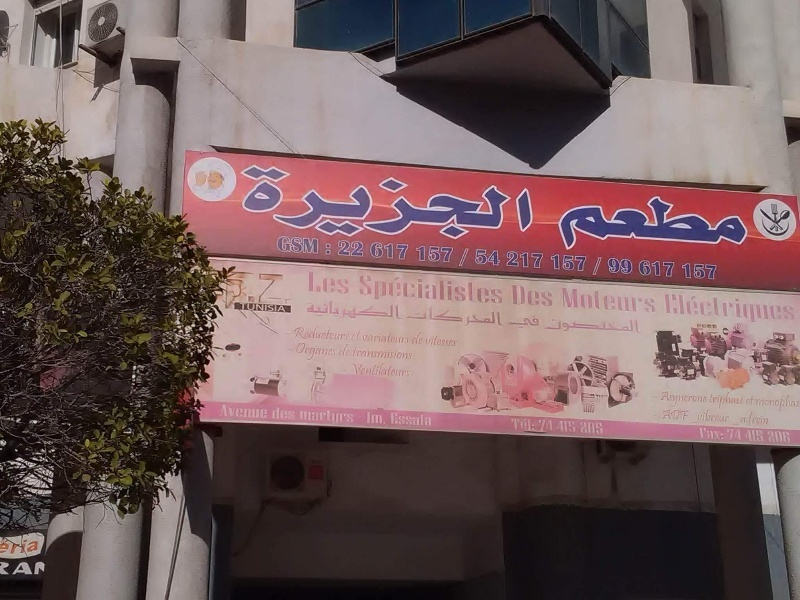text: (241, 163, 256, 242), (257, 163, 272, 242), (273, 163, 288, 242), (289, 163, 304, 242), (305, 163, 320, 242), (321, 163, 336, 242), (337, 163, 352, 242), (353, 163, 368, 242), (369, 163, 384, 242), (385, 163, 400, 242), (401, 163, 416, 242), (417, 163, 432, 242), (433, 163, 448, 242), (449, 163, 464, 242), (465, 163, 480, 242), (481, 163, 496, 242), (497, 163, 512, 242), (513, 163, 528, 242), (577, 193, 592, 268), (593, 193, 608, 268), (609, 193, 624, 268), (625, 193, 640, 268), (641, 193, 656, 268), (657, 193, 672, 268), (673, 193, 688, 268), (689, 193, 704, 268), (705, 193, 720, 268), (721, 193, 736, 268), (737, 193, 752, 268), (563, 193, 576, 268), (369, 272, 384, 308), (385, 272, 400, 308), (401, 272, 416, 308), (417, 272, 432, 308), (433, 272, 448, 308), (449, 272, 464, 308), (465, 272, 480, 308), (481, 272, 496, 308), (1, 530, 16, 563), (17, 530, 32, 563), (673, 293, 688, 325), (689, 293, 704, 325), (705, 293, 720, 325), (721, 293, 736, 325), (737, 293, 752, 325), (753, 293, 768, 325), (769, 293, 784, 325), (529, 163, 535, 242), (226, 279, 240, 311), (561, 286, 576, 314), (577, 286, 592, 314), (593, 286, 608, 314), (609, 286, 624, 314), (625, 286, 640, 314), (641, 286, 656, 314), (259, 273, 272, 305), (33, 530, 45, 563), (321, 270, 336, 296), (785, 293, 797, 325), (306, 270, 320, 296), (337, 270, 351, 296), (358, 272, 368, 308), (513, 284, 528, 308), (529, 284, 544, 308), (273, 273, 284, 305), (417, 304, 432, 327), (433, 304, 448, 327), (449, 304, 464, 327), (465, 304, 480, 327), (481, 304, 496, 327), (321, 341, 337, 362), (305, 298, 320, 320), (321, 298, 336, 320), (337, 298, 352, 320), (353, 298, 368, 320), (369, 298, 384, 320), (385, 298, 400, 320), (662, 293, 672, 325), (305, 341, 320, 362), (337, 239, 352, 259), (1, 558, 16, 578), (17, 558, 32, 578), (289, 236, 304, 255), (305, 236, 320, 255), (385, 242, 400, 261), (513, 250, 528, 269), (529, 250, 544, 269), (561, 254, 576, 273), (609, 257, 624, 276), (641, 259, 656, 278), (657, 259, 672, 278), (689, 262, 704, 281), (33, 558, 47, 578), (417, 411, 433, 428), (417, 245, 432, 263), (433, 245, 448, 263), (481, 249, 496, 267), (721, 391, 736, 409), (769, 395, 784, 413), (785, 395, 800, 413), (305, 409, 320, 427), (321, 409, 336, 427), (337, 409, 352, 427), (370, 242, 384, 261), (753, 411, 769, 427), (305, 325, 320, 342), (321, 325, 336, 342), (673, 390, 688, 407), (689, 390, 704, 407), (401, 411, 416, 428), (353, 362, 368, 379), (369, 362, 384, 379), (385, 362, 400, 379), (497, 272, 504, 308), (705, 262, 718, 281), (513, 313, 528, 329), (353, 239, 365, 259), (673, 406, 688, 422), (705, 409, 720, 425), (338, 342, 352, 359), (755, 395, 768, 413), (406, 304, 416, 327), (433, 334, 448, 349), (545, 319, 560, 334), (561, 319, 576, 334), (577, 319, 592, 334), (593, 319, 608, 334), (609, 319, 624, 334), (625, 319, 640, 334), (513, 417, 528, 432), (561, 419, 576, 434), (705, 427, 720, 442), (273, 406, 288, 421), (369, 411, 384, 426), (273, 301, 289, 315), (337, 325, 350, 342), (593, 256, 604, 276), (324, 241, 336, 259), (545, 284, 554, 308), (241, 301, 256, 315), (257, 301, 272, 315), (369, 331, 384, 345), (385, 331, 400, 345), (369, 347, 384, 361), (385, 347, 400, 361), (769, 430, 784, 444), (225, 405, 240, 419), (241, 405, 256, 419), (277, 236, 288, 255), (691, 409, 704, 425), (354, 347, 368, 361), (529, 313, 541, 329), (241, 279, 247, 311), (550, 254, 560, 273), (577, 254, 587, 273), (661, 390, 672, 407), (389, 411, 400, 428), (401, 347, 414, 361), (580, 421, 592, 436), (710, 391, 720, 409), (625, 257, 634, 276), (294, 325, 304, 342), (401, 362, 411, 379), (753, 429, 765, 443), (593, 421, 604, 436), (497, 304, 504, 327), (238, 163, 240, 242), (257, 405, 268, 419), (401, 242, 409, 261), (297, 341, 304, 362), (663, 406, 672, 422), (721, 409, 730, 425), (737, 412, 746, 428), (737, 391, 745, 409), (401, 331, 411, 345), (449, 334, 458, 349), (681, 262, 688, 281), (726, 429, 736, 442), (545, 419, 553, 433), (744, 429, 752, 443), (353, 331, 363, 342), (425, 334, 432, 349), (529, 417, 536, 432), (459, 248, 464, 268), (465, 248, 470, 268), (537, 419, 544, 433), (785, 430, 792, 444), (507, 250, 512, 269), (417, 332, 424, 345), (449, 245, 454, 263), (475, 249, 480, 267), (698, 427, 704, 442), (289, 406, 295, 421), (507, 313, 512, 329), (731, 412, 736, 428), (721, 427, 726, 442), (497, 249, 501, 267), (300, 409, 304, 427), (363, 331, 368, 345), (745, 396, 752, 406), (411, 332, 416, 345), (737, 429, 742, 442), (748, 411, 752, 427), (556, 419, 560, 434), (673, 259, 676, 278), (220, 405, 224, 419), (353, 409, 356, 427), (705, 390, 708, 407), (510, 284, 512, 308), (385, 411, 388, 426), (237, 301, 240, 315), (638, 259, 640, 278), (689, 406, 691, 422), (753, 396, 756, 406), (366, 411, 368, 426), (559, 286, 560, 314), (657, 286, 658, 314), (651, 394, 656, 399), (303, 298, 304, 320), (401, 298, 402, 320), (591, 256, 592, 276), (415, 245, 416, 263), (351, 362, 352, 379), (543, 319, 544, 334), (641, 319, 642, 334), (511, 417, 512, 432), (653, 414, 656, 419), (657, 414, 660, 419), (271, 406, 272, 421), (767, 430, 768, 444), (657, 394, 659, 399)
